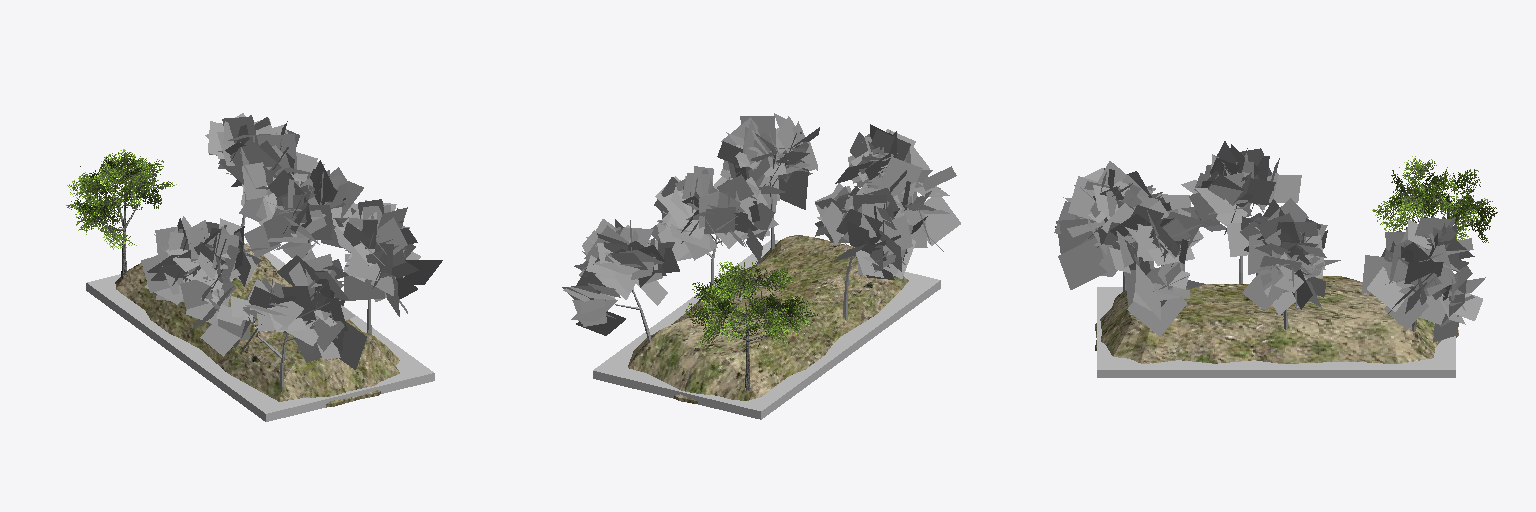
3 renders of one model, left to right at view 1: azimuth 30°, elevation 25°; view 2: azimuth 150°, elevation 25°; view 3: azimuth 270°, elevation 25°, orthographic.
Visible parts, largest first — view 1: hill_Plane, t3.002, t2.002, t6, field_Cube.001, t5, t4, t1; view 2: hill_Plane, t5, field_Cube.001, t4, t3.002, t2.002, t6, t1; view 3: hill_Plane, t4, t6, t5, field_Cube.001, t3.002, t2.002, t1.
Part boxes in pixels (bbox=[...]): hill_Plane: bbox=[115, 243, 399, 407]; t3.002: bbox=[200, 250, 366, 388]; t2.002: bbox=[141, 216, 267, 329]; t6: bbox=[331, 199, 442, 333]; field_Cube.001: bbox=[86, 243, 434, 421]; t5: bbox=[244, 160, 363, 258]; t4: bbox=[205, 113, 324, 226]; t1: bbox=[66, 149, 176, 278]; hill_Plane: bbox=[628, 235, 908, 403]; t5: bbox=[651, 166, 778, 289]; field_Cube.001: bbox=[593, 240, 940, 419]; t4: bbox=[562, 219, 679, 342]; t3.002: bbox=[835, 124, 960, 251]; t2.002: bbox=[815, 183, 915, 319]; t6: bbox=[714, 113, 819, 251]; t1: bbox=[685, 261, 817, 390]; hill_Plane: bbox=[1095, 276, 1458, 363]; t4: bbox=[1361, 216, 1485, 342]; t6: bbox=[1101, 200, 1205, 336]; t5: bbox=[1226, 198, 1340, 329]; field_Cube.001: bbox=[1097, 287, 1455, 377]; t3.002: bbox=[1054, 161, 1190, 291]; t2.002: bbox=[1181, 141, 1301, 283]; t1: bbox=[1372, 156, 1497, 242].
Size of the model in its own units: 16.09 by 9.58 by 24.68.
14 materials, 1 textured.